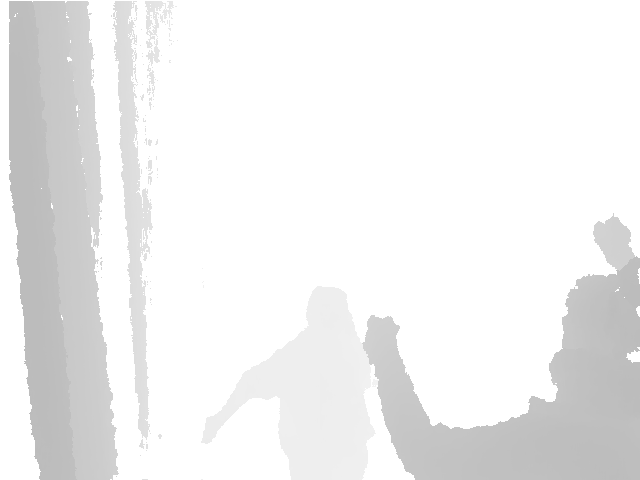hand: (592, 215, 637, 263)
head: (561, 263, 640, 365), (306, 287, 355, 334)
person: (363, 215, 640, 480), (201, 288, 380, 480)
